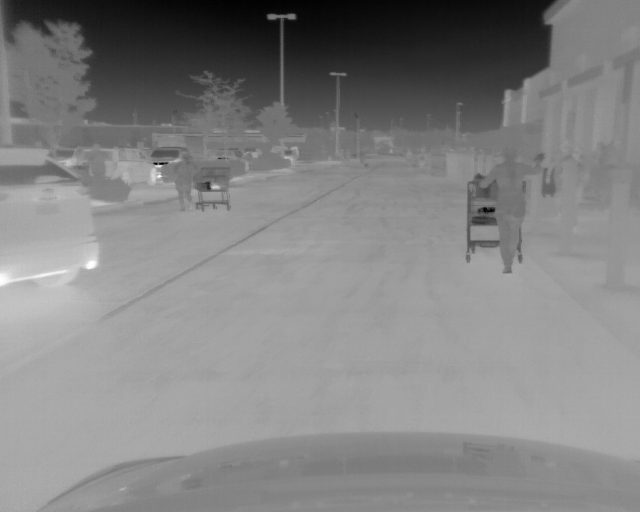car: (1, 146, 105, 290), (49, 147, 157, 189), (147, 146, 193, 181)
people: (482, 146, 541, 274), (546, 142, 586, 230), (173, 153, 193, 208)
